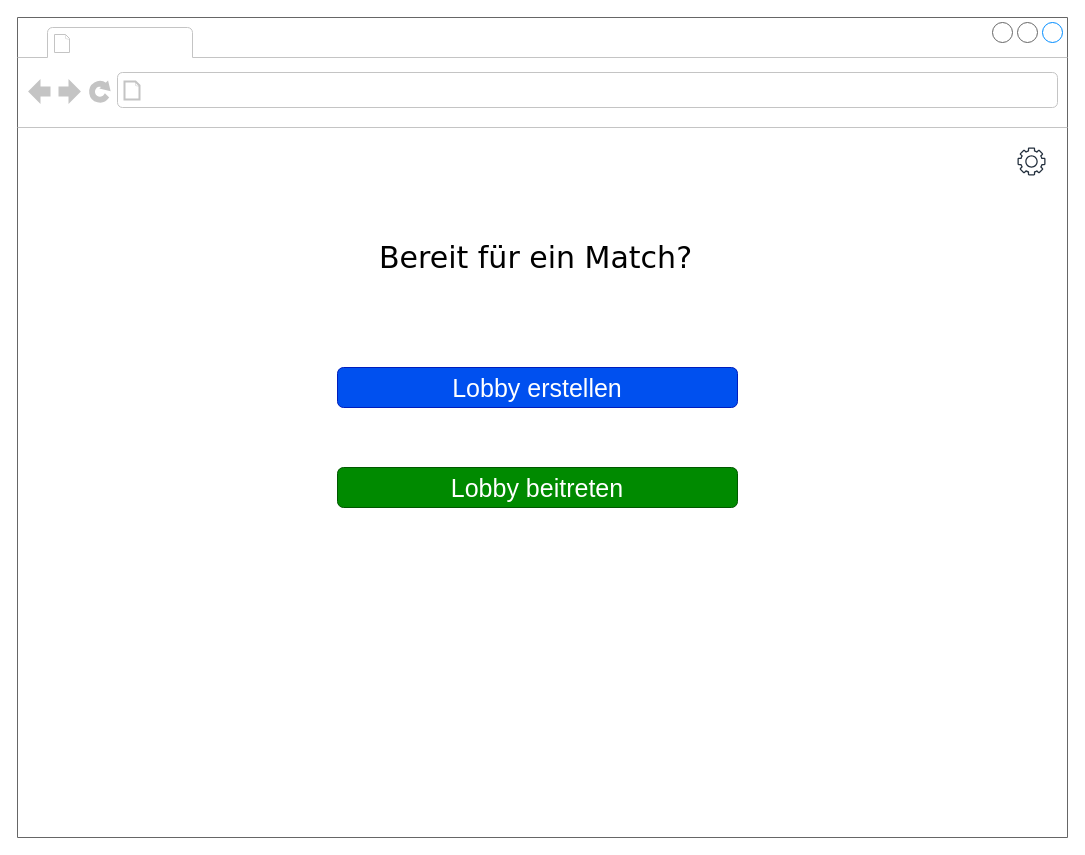
This 1085x855 diagram has some shape labels left out. Each missing label, with the centre of its shape:
https://hexfields-studio.github.io/HexfieldsDominion/play: point (272, 90)
Match starten: point (132, 42)
